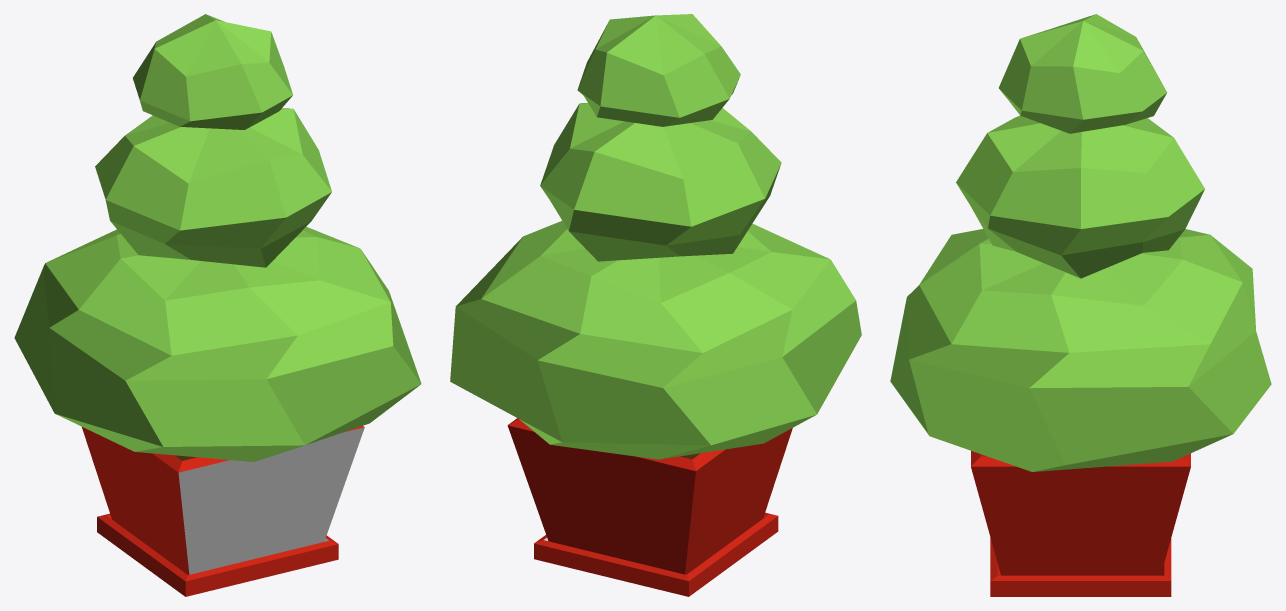
Rendered from plant_tall.fbx.
The picture shows the model from 3 angles, left to right: view 1: azimuth 30°, elevation 25°; view 2: azimuth 150°, elevation 25°; view 3: azimuth 270°, elevation 25°; orthographic projection. The views are drawn at different scales.
Parts seen in each view (by area): view 1: Cube; view 2: Cube; view 3: Cube.
Part boxes in pixels (box(x1,y1,x2,y2)): Cube: box(14, 14, 421, 596); Cube: box(450, 14, 861, 596); Cube: box(890, 14, 1271, 596).
Size of the model in its own units: 60.89 by 94.69 by 60.89.
